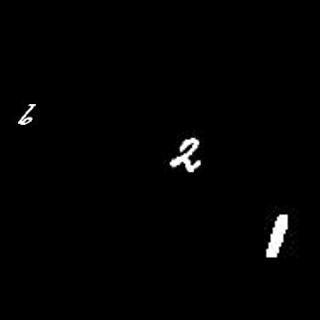one: (265, 213, 288, 258)
six: (18, 102, 35, 126)
two: (169, 136, 203, 174)
